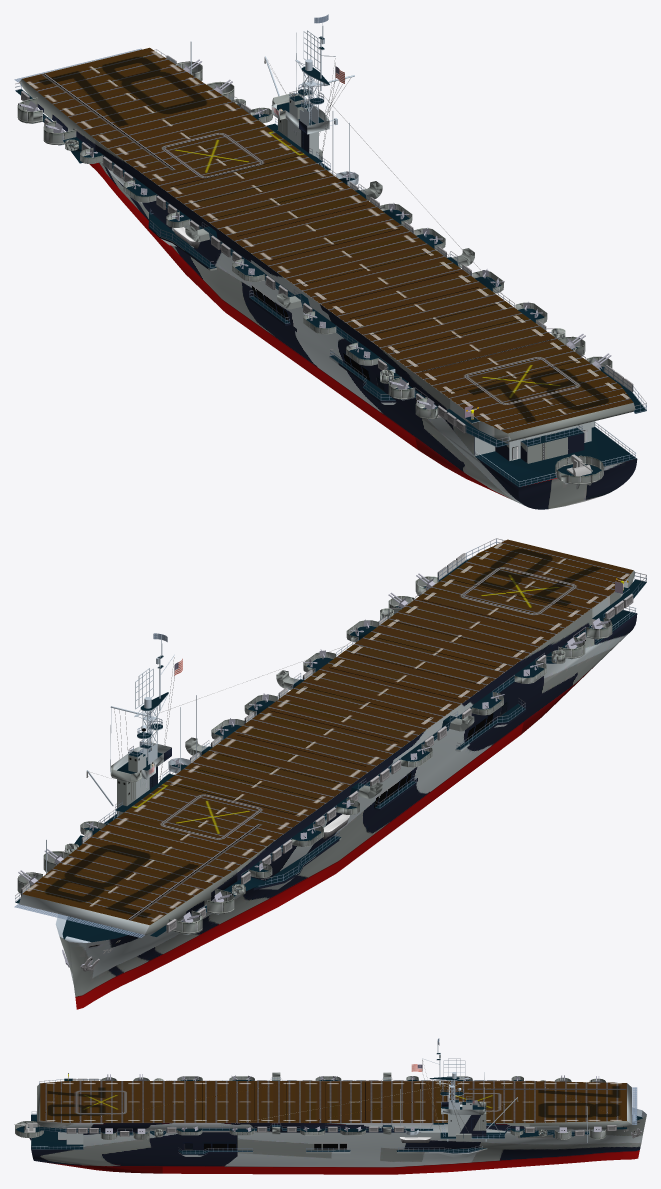
The model's file is CVE.glb.
3 views of the same model, one above another, from view 1: azimuth 30°, elevation 25°; view 2: azimuth 150°, elevation 25°; view 3: azimuth 270°, elevation 25° (orthographic). The views are drawn at different scales.
Visible parts, largest first — view 1: CVE; view 2: CVE; view 3: CVE.
Boxes of the visible parts, bbox=[...] form: CVE: bbox=[14, 14, 646, 509]; CVE: bbox=[14, 538, 646, 1009]; CVE: bbox=[14, 1038, 646, 1174].
Bounding box in the file's own units: 120 × 123 × 497.
Materials: 24 (8 with a texture image).
